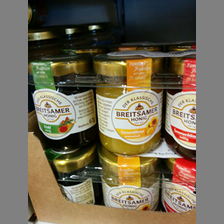honey: (95, 60, 166, 150), (28, 60, 96, 148), (98, 151, 163, 210)
